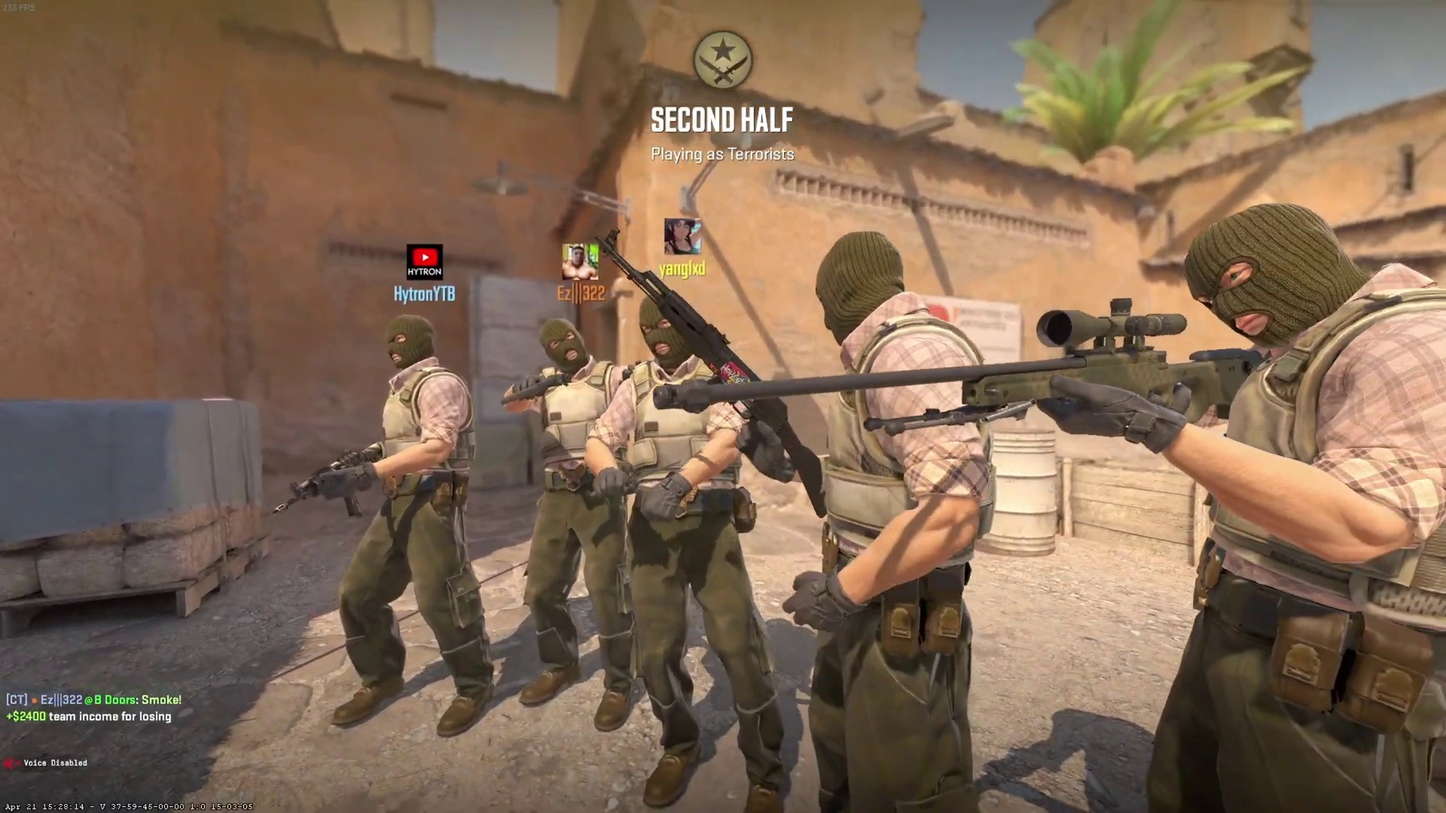Terrorist: (1155, 214, 1446, 813), (809, 256, 982, 813), (624, 289, 788, 806), (355, 311, 489, 732), (521, 327, 631, 723)
